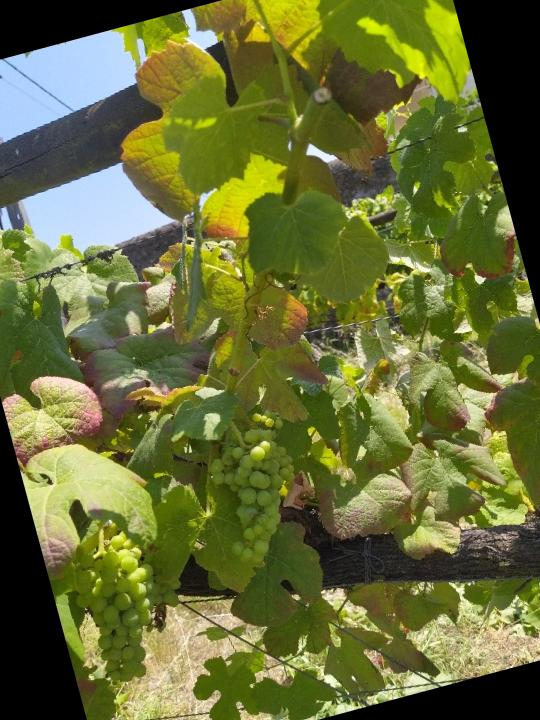grape: (56, 518, 177, 694), (196, 405, 319, 570)
